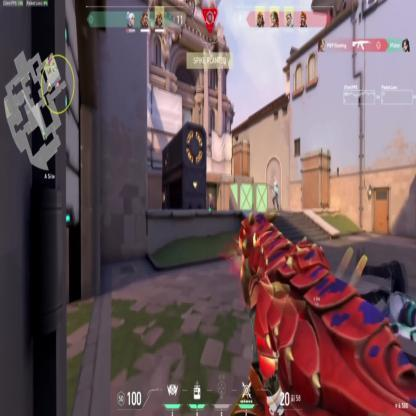enemy: (208, 192, 214, 210)
enemy_head: (209, 194, 212, 198)
